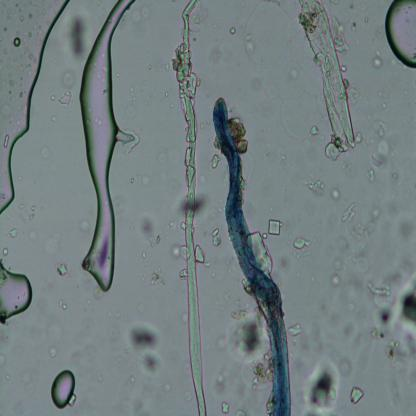Air bubble: (79, 0, 138, 296), (0, 0, 72, 216), (383, 0, 416, 70), (0, 260, 33, 323), (48, 369, 76, 409)
Background material: (231, 0, 304, 101), (328, 206, 398, 297), (366, 273, 416, 356), (309, 292, 362, 350), (127, 317, 165, 377), (379, 353, 416, 411), (226, 312, 266, 356), (306, 360, 338, 415), (64, 15, 87, 60), (250, 350, 274, 392), (139, 212, 160, 245), (396, 216, 416, 250), (216, 366, 236, 396), (374, 120, 391, 153), (105, 308, 121, 338), (149, 261, 166, 288), (339, 350, 354, 378), (305, 175, 326, 195), (226, 304, 248, 322), (205, 227, 223, 248), (61, 66, 76, 90), (342, 200, 356, 225), (369, 43, 383, 67), (326, 184, 344, 202), (0, 321, 12, 348), (169, 244, 186, 263), (294, 234, 311, 252), (220, 285, 236, 303), (349, 385, 364, 403), (208, 155, 222, 173), (289, 321, 303, 338), (154, 148, 166, 167), (194, 247, 206, 265), (126, 104, 138, 122), (177, 386, 192, 400), (218, 335, 229, 353), (58, 92, 72, 106), (370, 155, 384, 169), (54, 296, 68, 310), (364, 168, 377, 183), (311, 122, 320, 142), (57, 262, 69, 277), (36, 147, 51, 159), (144, 59, 156, 74), (220, 401, 232, 416), (80, 218, 92, 233), (160, 375, 170, 392), (129, 86, 138, 104), (138, 298, 148, 314), (21, 368, 31, 384), (115, 350, 125, 365), (6, 6, 15, 22), (12, 3, 24, 15), (159, 170, 169, 184), (228, 22, 238, 36), (11, 36, 22, 48), (27, 49, 37, 62), (4, 86, 13, 100), (91, 116, 102, 127), (49, 344, 57, 359), (29, 226, 36, 242), (180, 310, 188, 324), (0, 355, 9, 367), (9, 228, 18, 239), (21, 104, 29, 115), (237, 408, 248, 416), (96, 370, 104, 380), (180, 220, 186, 232), (19, 214, 27, 223), (2, 247, 10, 256), (114, 70, 122, 79), (18, 172, 25, 182), (18, 87, 24, 98), (129, 375, 136, 384), (16, 118, 21, 130), (24, 62, 31, 70), (164, 63, 170, 72), (3, 25, 9, 34), (209, 270, 215, 279), (48, 94, 55, 101), (29, 213, 35, 221), (51, 115, 56, 124), (30, 203, 35, 212), (143, 250, 147, 260), (165, 89, 170, 97), (206, 260, 210, 269), (9, 78, 14, 85), (140, 88, 144, 96), (169, 219, 173, 227), (18, 16, 24, 21), (27, 32, 32, 38), (1, 49, 7, 54), (28, 14, 32, 21), (5, 374, 10, 379), (20, 204, 24, 210), (8, 72, 12, 78), (8, 64, 12, 69), (14, 56, 18, 61), (170, 103, 173, 109), (43, 11, 46, 15)
Cellulose filter fibre: (180, 0, 207, 416), (298, 1, 358, 158)
Cotton: (213, 97, 295, 415)
